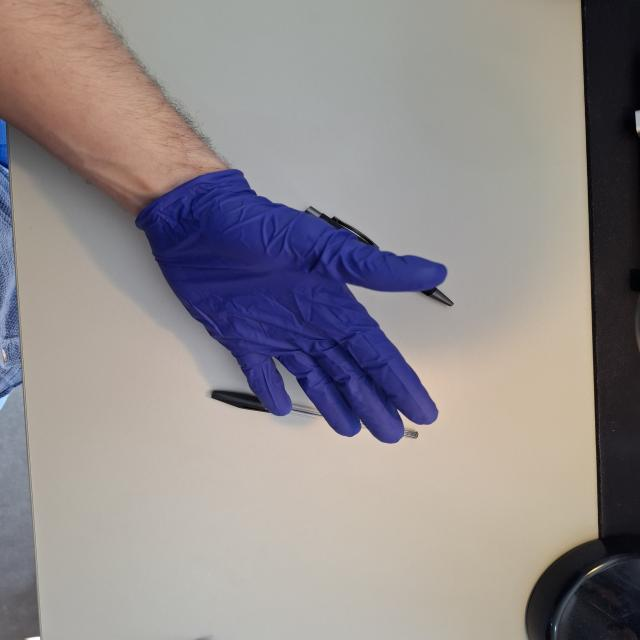glove_on: (132, 170, 452, 446)
